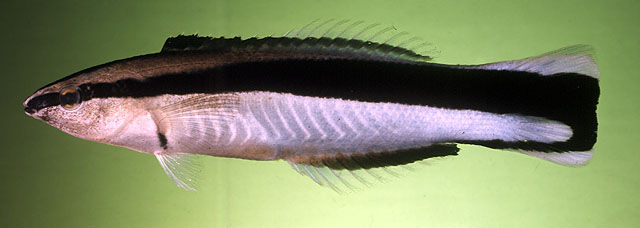fish: (21, 16, 602, 195)
